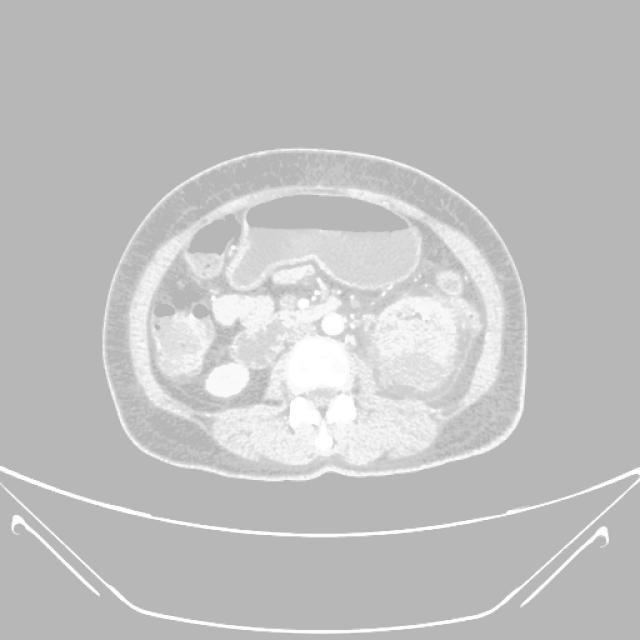TUMOR: (89, 256, 525, 413)
